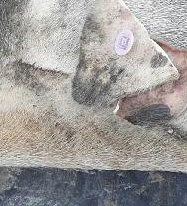text: (107, 20, 148, 65)
